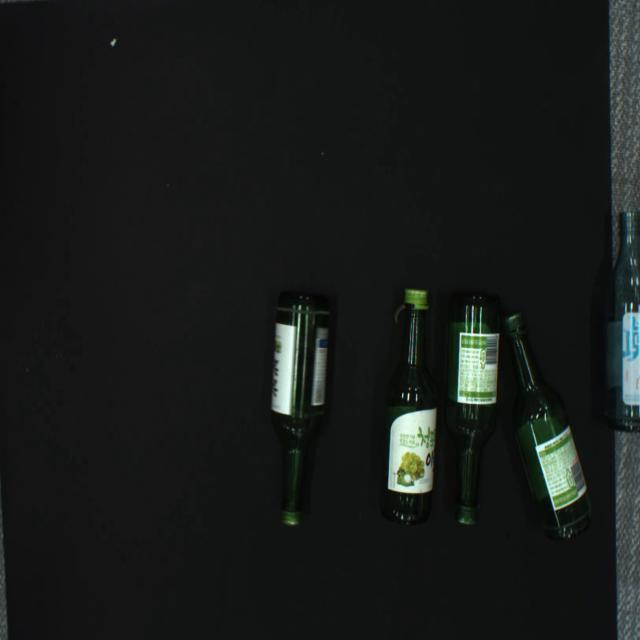soju-bottle: (503, 311, 592, 541), (377, 288, 438, 527), (271, 291, 331, 527), (445, 291, 503, 526), (601, 212, 639, 432)
